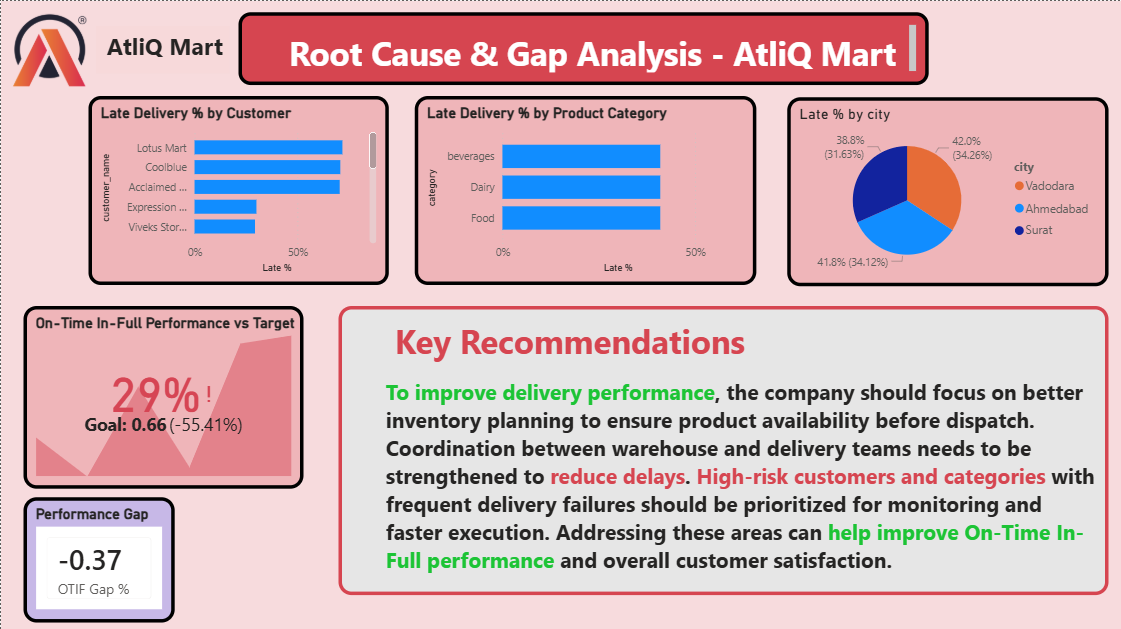

This screenshot's page, from the dashboard's own definition file:
{"tool":"powerbi","page":{"name":"Root Cause & Gap Analysis","canvas":[1280,720],"ordinal":1},"visuals":[{"type":"barChart","title":"Late Delivery % by Customer","fields":{"Y":["fact_orders_aggregate.Late %"],"Category":["dim_customers.customer_name"]},"box":[100,108.6,342.9,215.7],"z":0},{"type":"barChart","title":"Late Delivery % by Product Category","fields":{"Y":["fact_orders_aggregate.Late %"],"Category":["dim_products.category"]},"box":[472.9,108.6,390,215.7],"z":1000},{"type":"pieChart","fields":{"Category":["dim_customers.city"],"Y":["fact_orders_aggregate.Late %"]},"box":[898.6,110,367.1,215.7],"z":2000},{"type":"kpi","title":"On-Time In-Full Performance vs Target","fields":{"Indicator":["fact_orders_aggregate.OTIF %"],"Goal":["dim_targets_orders.OTIF Target %"],"TrendLine":["dim_date.mmm_yy"]},"box":[25.7,348.6,320,208.6],"z":2001},{"type":"cardVisual","title":"Performance Gap","fields":{"Data":["dim_targets_orders.OTIF Gap %"]},"box":[25.7,567.1,172.9,142.9],"z":2002},{"type":"textbox","box":[385.7,348.6,880,330],"z":2003},{"type":"textbox","box":[271.4,12.9,788.6,82.9],"z":2004},{"type":"image","box":[12.9,1.4,87.1,108.6],"z":2006},{"type":"textbox","box":[108.6,28.6,152.9,54.3],"z":2007}]}

Visuals, with their boxes in screenshot pixels (x1, y1, x2, y2), scaled from the page's 1280x720 canvas onto the 1121x629 screenshot:
"Late Delivery % by Customer" barChart: <bbox>88, 95, 388, 283</bbox>
"Late Delivery % by Product Category" barChart: <bbox>414, 95, 756, 283</bbox>
pieChart - dim_customers.city x fact_orders_aggregate.Late %: <bbox>787, 96, 1108, 285</bbox>
"On-Time In-Full Performance vs Target" kpi: <bbox>23, 305, 303, 487</bbox>
"Performance Gap" cardVisual: <bbox>23, 495, 174, 620</bbox>
textbox: <bbox>338, 305, 1108, 593</bbox>
textbox: <bbox>238, 11, 928, 84</bbox>
image: <bbox>11, 1, 88, 96</bbox>
textbox: <bbox>95, 25, 229, 72</bbox>
